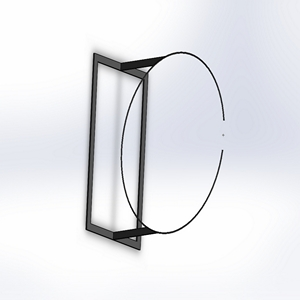circle: (85, 49, 228, 250)
